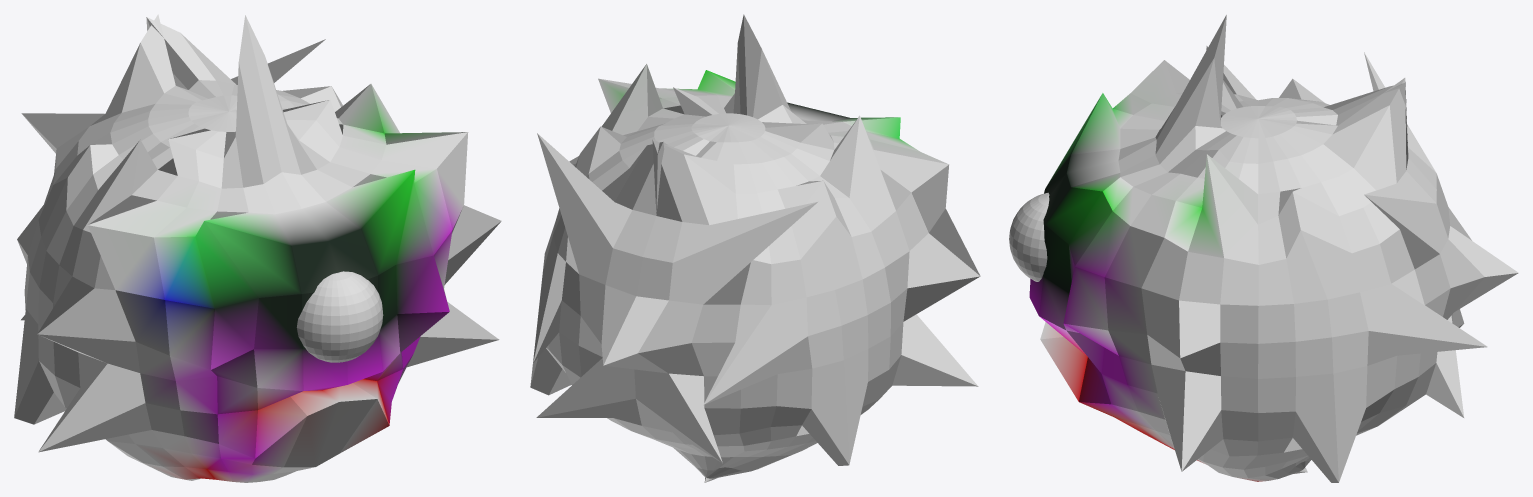
File: blarg.gltf
3 renders of one model, left to right at view 1: azimuth 30°, elevation 25°; view 2: azimuth 150°, elevation 25°; view 3: azimuth 270°, elevation 25°, orthographic. The views are drawn at different scales.
Visible parts, largest first — view 1: Sphere, Sphere.001; view 2: Sphere; view 3: Sphere, Sphere.001.
Part boxes in pixels (<box>): Sphere: <box>14,14,501,482</box>; Sphere.001: <box>296,271,383,362</box>; Sphere: <box>530,14,980,482</box>; Sphere: <box>1029,15,1518,482</box>; Sphere.001: <box>1009,192,1049,281</box>.
Bounding box in the file's own units: 2.62 × 2.57 × 2.59.
